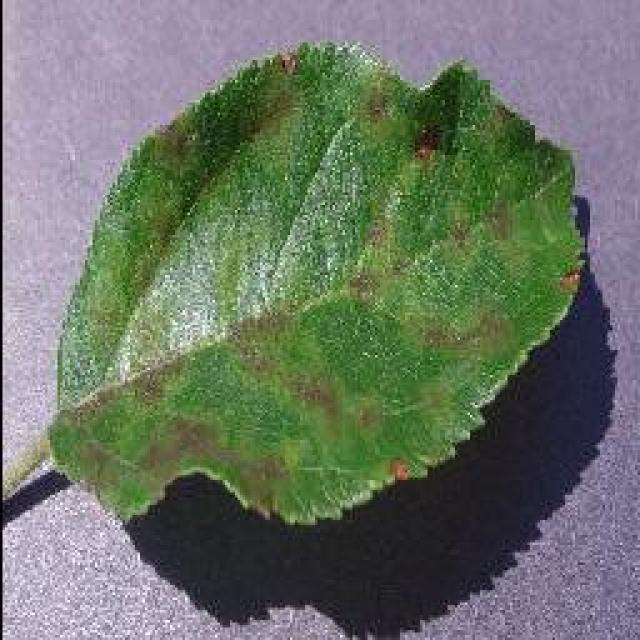apple scab disease: (38, 35, 588, 530)
